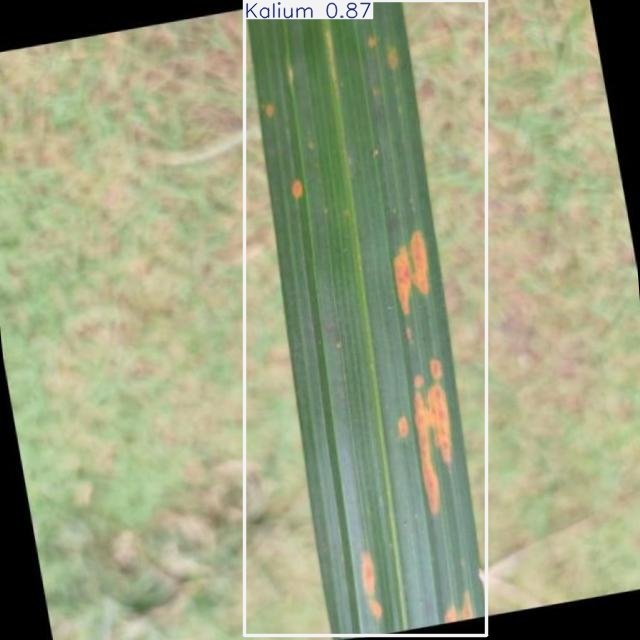Kalium: (244, 1, 486, 635)
